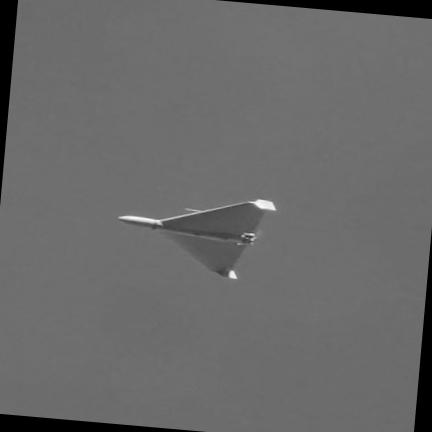Shahed: (118, 199, 276, 278)
